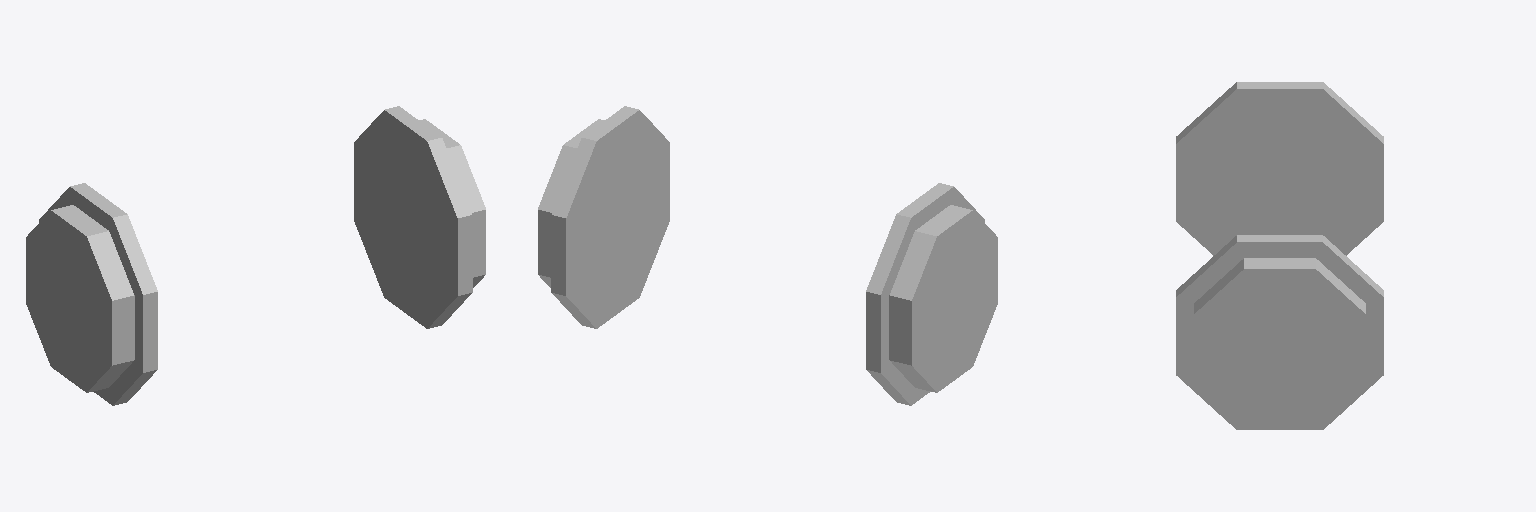
Rendered from wheels.obj.
3 renders of one model, left to right at view 1: azimuth 30°, elevation 25°; view 2: azimuth 150°, elevation 25°; view 3: azimuth 270°, elevation 25°, orthographic.
Parts seen in each view (by area): view 1: Cube.038_Cube.045_0; view 2: Cube.038_Cube.045_0; view 3: Cube.038_Cube.045_0.
Boxes of the visible parts, x1=… form: Cube.038_Cube.045_0: x1=26, y1=106, x2=485, y2=405; Cube.038_Cube.045_0: x1=538, y1=106, x2=997, y2=405; Cube.038_Cube.045_0: x1=1176, y1=82, x2=1383, y2=429.
Size of the model in its own units: 3.12 by 1.5 by 1.5.